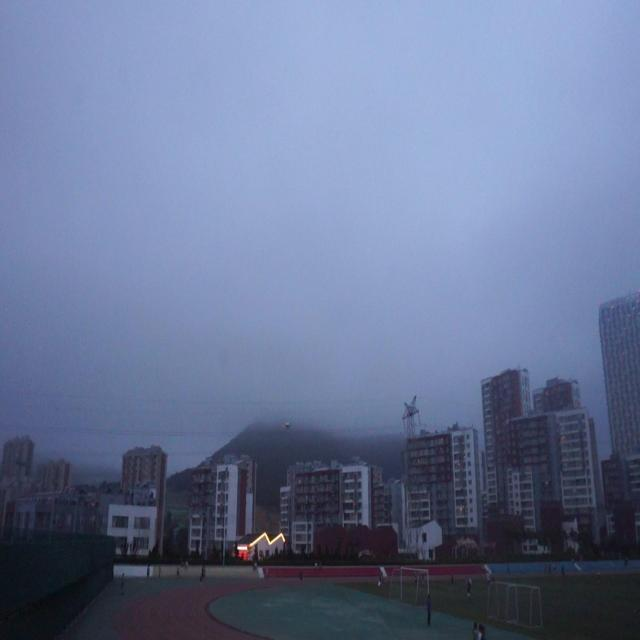drone: (282, 415, 294, 435)
